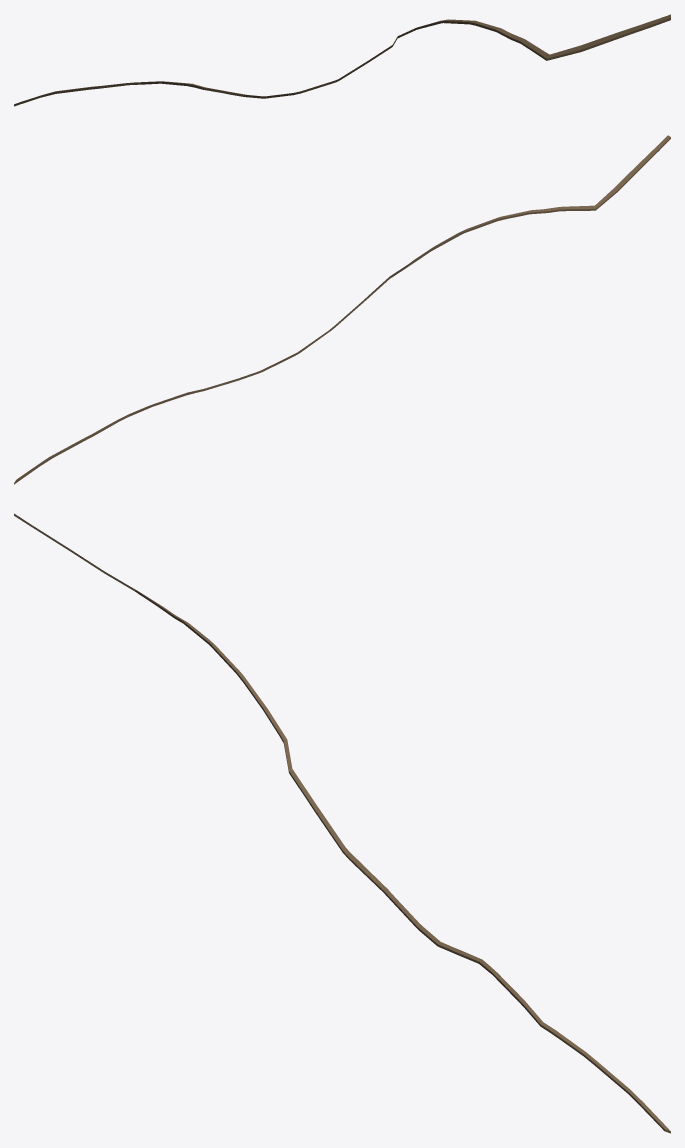
The picture shows the model from 3 angles, top to bottom: view 1: azimuth 90°, elevation 25°; view 2: azimuth 150°, elevation 25°; view 3: azimuth 270°, elevation 25°; orthographic projection. The views are drawn at different scales.
Size of the model in its own units: 180 by 112 by 188.
